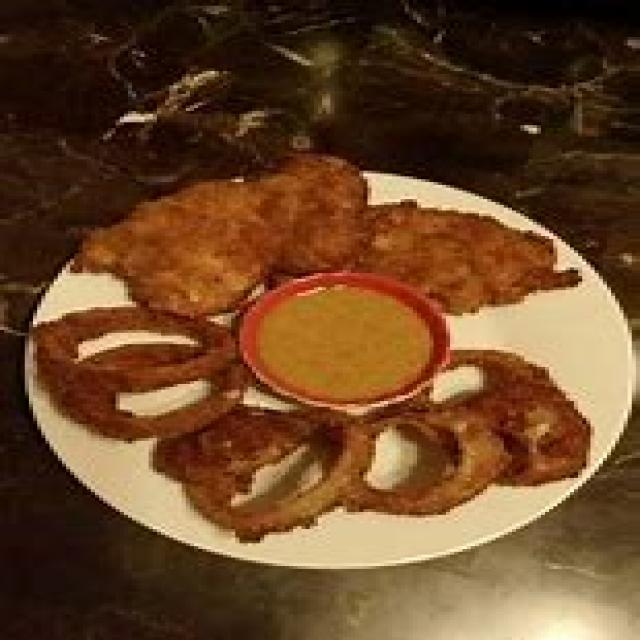Chicken Wings: (50, 148, 594, 307)
Onion Rings: (21, 296, 582, 549)
